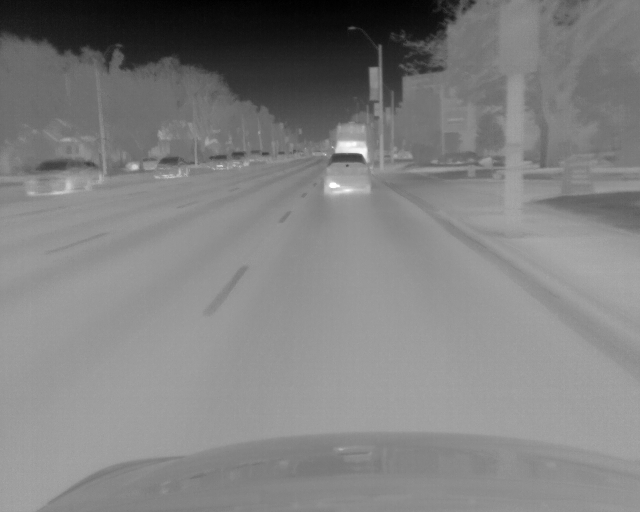car: (23, 158, 95, 196), (324, 152, 372, 195), (332, 122, 373, 161), (155, 155, 187, 179), (125, 157, 154, 171), (231, 151, 249, 171), (212, 154, 230, 171), (248, 149, 268, 164)
